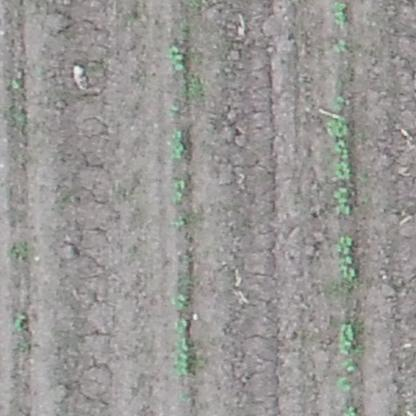vc: (328, 117, 357, 181), (335, 232, 364, 282), (172, 318, 197, 376), (337, 321, 362, 356), (331, 186, 353, 219), (166, 40, 188, 71), (168, 129, 187, 161), (331, 2, 351, 29), (12, 314, 29, 335), (173, 180, 186, 204), (337, 376, 355, 392), (173, 290, 188, 309), (343, 359, 362, 373)
